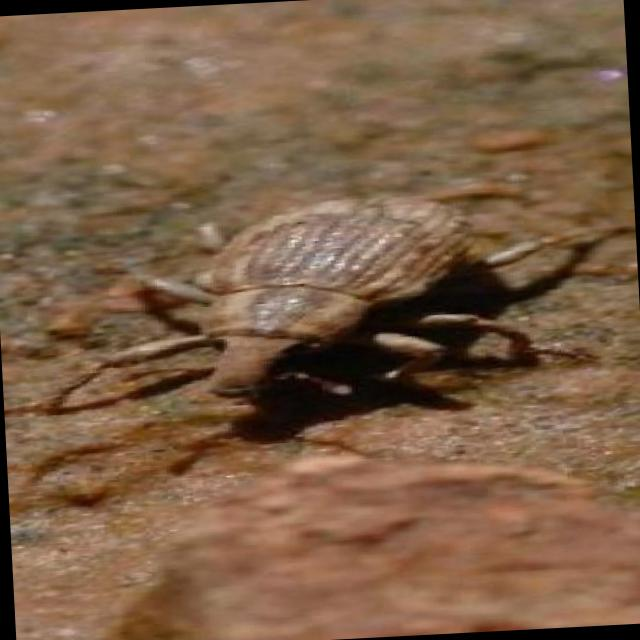rice-bug: (105, 190, 537, 422)
